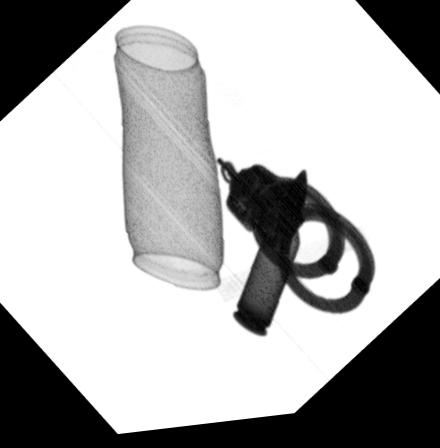Bullet: (231, 174, 306, 342)
HandCuffs: (216, 160, 376, 323)
